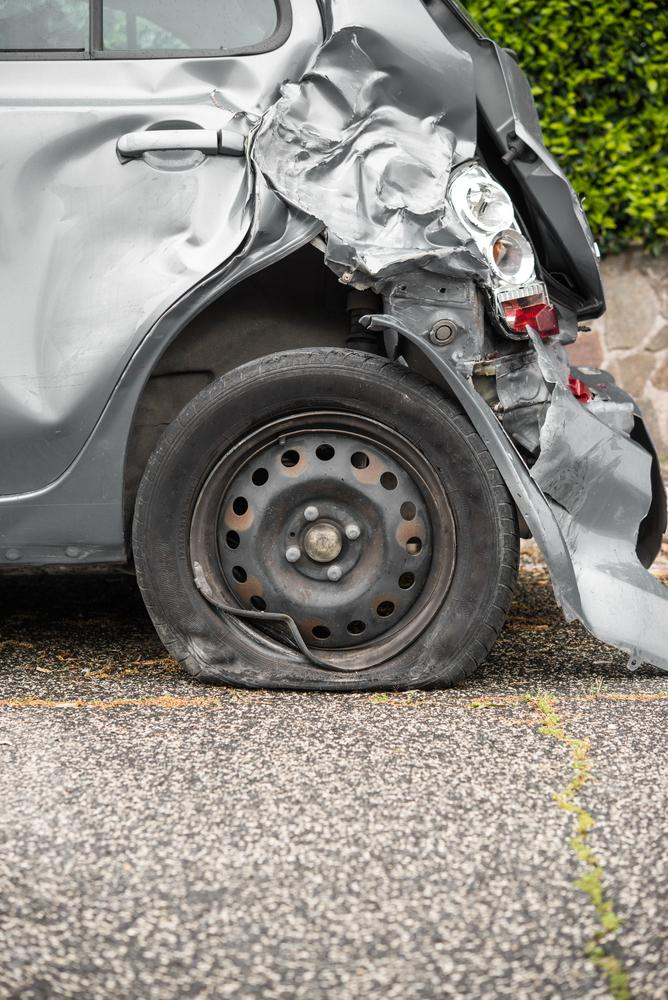dent: (2, 62, 268, 422), (255, 26, 479, 268)
lamp broken: (441, 161, 558, 335)
tire flat: (134, 350, 518, 688)
